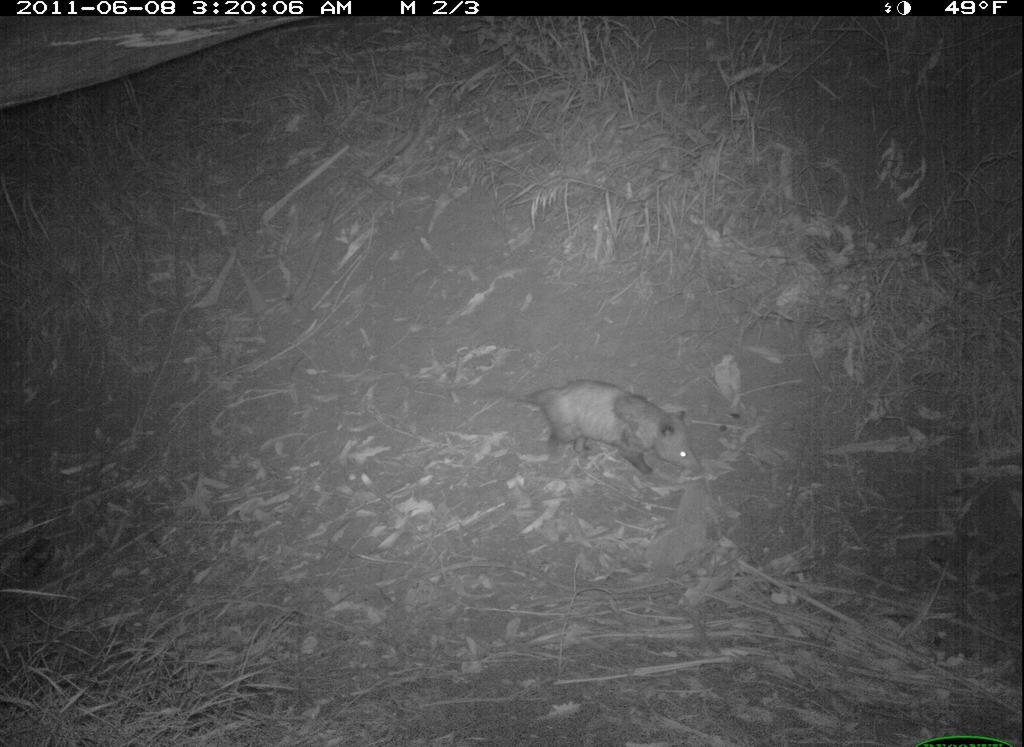opossum: (516, 368, 699, 483)
